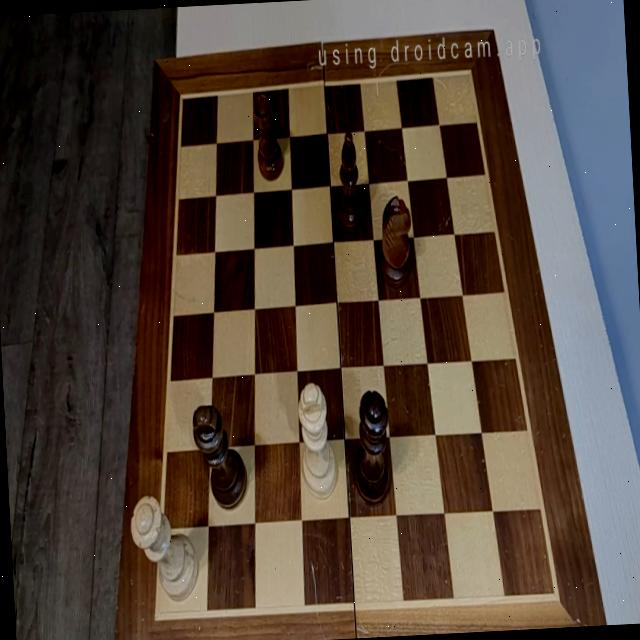black_bishop: (332, 132, 366, 235)
black_king: (192, 403, 248, 511)
black_knight: (378, 194, 414, 287)
black_queen: (348, 388, 394, 506)
black_rook: (252, 92, 285, 182)
white_king: (296, 382, 338, 498)
white_queen: (130, 491, 200, 602)
